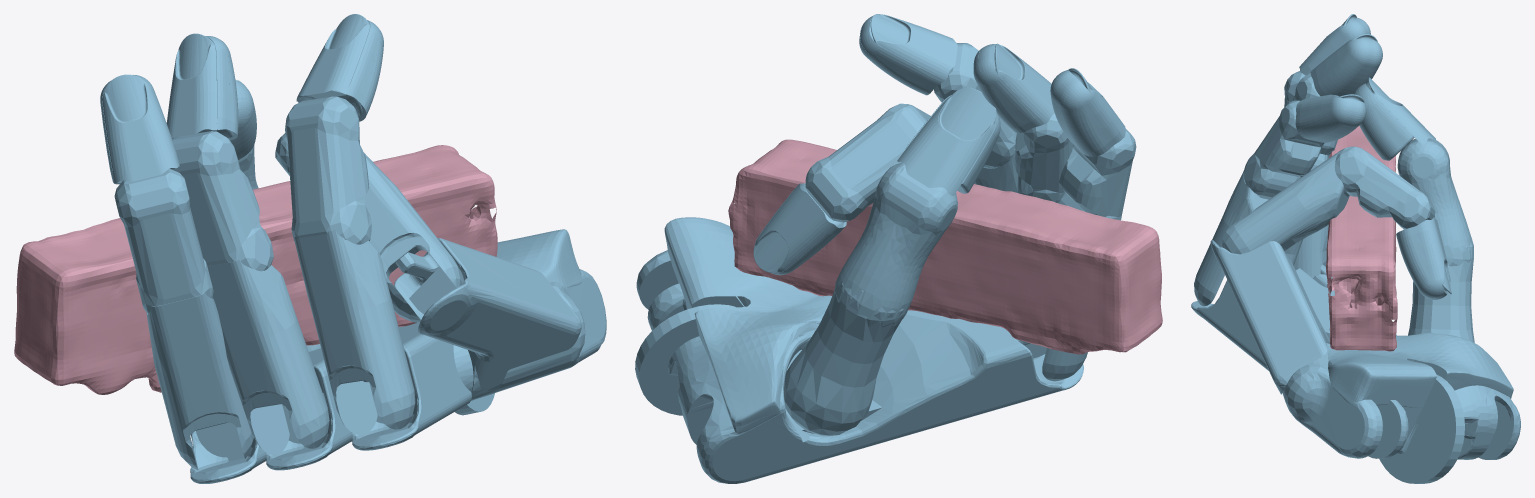
3 renders of one model, left to right at view 1: azimuth 30°, elevation 25°; view 2: azimuth 150°, elevation 25°; view 3: azimuth 270°, elevation 25°, orthographic. The views are drawn at different scales.
Parts seen in each view (by area): view 1: hand, world; view 2: hand, world; view 3: hand, world.
Boxes of the visible parts, left/top/right/bottom form: hand: left=100, top=14, right=606, bottom=483; world: left=14, top=145, right=497, bottom=394; hand: left=635, top=14, right=1136, bottom=483; world: left=728, top=139, right=1162, bottom=354; hand: left=1191, top=14, right=1520, bottom=483; world: left=1326, top=126, right=1397, bottom=351.
Size of the model in its own units: 0.1656 by 0.1336 by 0.1142.
